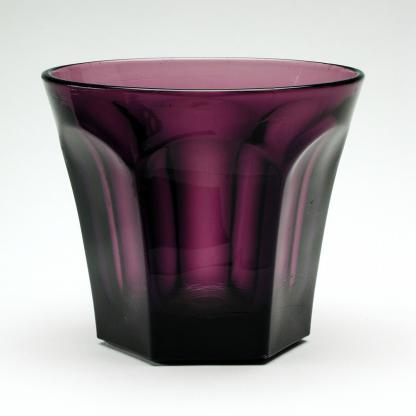vase: (39, 54, 364, 365)
